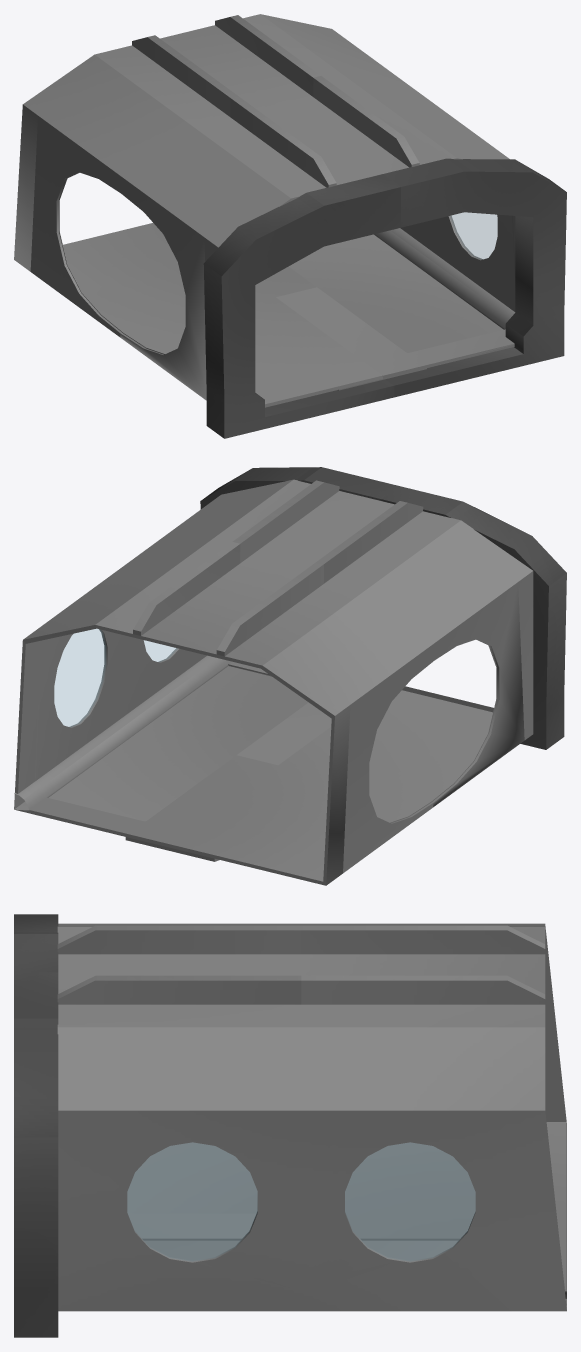
Rendered from Additions01.fbx.
The picture shows the model from 3 angles, top to bottom: view 1: azimuth 30°, elevation 25°; view 2: azimuth 150°, elevation 25°; view 3: azimuth 270°, elevation 25°; orthographic projection. The views are drawn at different scales.
Visible parts, largest first — view 1: 1DoorSectionBase001; view 2: 1DoorSectionBase001; view 3: 1DoorSectionBase001.
Boxes of the visible parts, bbox=[...] form: 1DoorSectionBase001: bbox=[14, 14, 566, 438]; 1DoorSectionBase001: bbox=[14, 467, 566, 885]; 1DoorSectionBase001: bbox=[14, 914, 566, 1337].
Bounding box in the file's own units: 220 × 138 × 246.
Materials: 4 (2 with a texture image).
